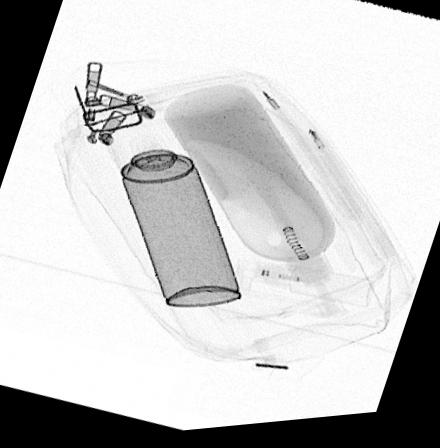Sprayer: (105, 121, 244, 311)
